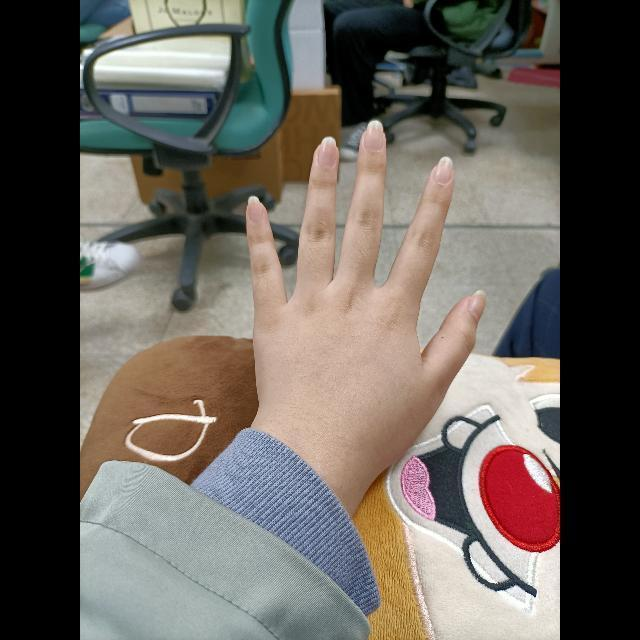bare_hand: (236, 121, 491, 479)
